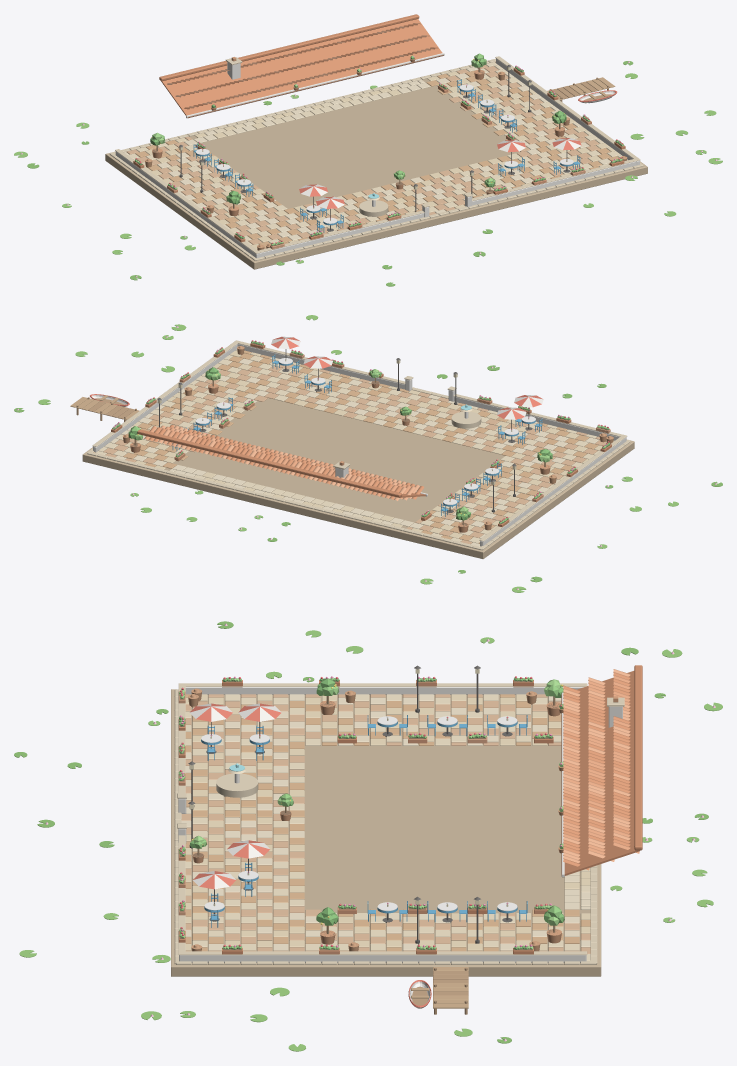
Rendered from restaurant.glb.
3 renders of one model, top to bottom at view 1: azimuth 30°, elevation 25°; view 2: azimuth 150°, elevation 25°; view 3: azimuth 270°, elevation 25°, orthographic. The views are drawn at different scales.
Parts seen in each view (by area): view 1: terrace_base, roof_deck, terrace_tiles_clay_tile_0, terrace_tiles_clay_tile_1, terrace_tiles_sandstone_0, terrace_tiles_sandstone_2, parapet, terrace_tiles_sandstone_1, terrace_coping, roof_details, terrace_decor, lily_pads (+10 smaller); view 2: terrace_base, terrace_tiles_clay_tile_0, terrace_tiles_clay_tile_1, terrace_tiles_sandstone_0, terrace_tiles_sandstone_2, terrace_tiles_sandstone_1, parapet, terrace_decor, terrace_coping, roof_tiles_terracotta_1, roof_details, lily_pads (+9 smaller); view 3: terrace_base, terrace_tiles_clay_tile_0, terrace_tiles_clay_tile_1, parapet, terrace_tiles_sandstone_0, terrace_tiles_sandstone_1, terrace_tiles_sandstone_2, terrace_decor, roof_deck, terrace_coping, roof_tiles_terracotta_1, roof_tiles_terracotta_0 (+10 smaller).
Boxes of the visible parts, box(x1,y1,x2,y2) form: terrace_base: box(105, 60, 647, 269); roof_deck: box(161, 19, 443, 118); terrace_tiles_clay_tile_0: box(127, 65, 599, 248); terrace_tiles_clay_tile_1: box(135, 62, 619, 247); terrace_tiles_sandstone_0: box(128, 62, 622, 245); terrace_tiles_sandstone_2: box(124, 67, 610, 240); parapet: box(115, 56, 640, 258); terrace_tiles_sandstone_1: box(145, 71, 627, 249); terrace_coping: box(109, 59, 643, 260); roof_details: box(159, 14, 444, 118); terrace_decor: box(145, 53, 627, 250); lily_pads: box(14, 61, 722, 286); terrace_base: box(82, 352, 634, 558); terrace_tiles_clay_tile_0: box(103, 364, 606, 543); terrace_tiles_clay_tile_1: box(93, 350, 598, 543); terrace_tiles_sandstone_0: box(95, 349, 600, 543); terrace_tiles_sandstone_2: box(110, 357, 598, 546); terrace_tiles_sandstone_1: box(125, 350, 614, 538); parapet: box(92, 340, 627, 546); terrace_decor: box(122, 346, 613, 532); terrace_coping: box(87, 387, 630, 550); roof_tiles_terracotta_1: box(149, 425, 424, 499); roof_details: box(137, 429, 427, 497); lily_pads: box(14, 315, 722, 592); terrace_base: box(171, 689, 601, 976); terrace_tiles_clay_tile_0: box(181, 694, 590, 953); terrace_tiles_clay_tile_1: box(185, 694, 590, 951); parapet: box(177, 683, 587, 962); terrace_tiles_sandstone_0: box(185, 694, 590, 960); terrace_tiles_sandstone_1: box(185, 694, 590, 950); terrace_tiles_sandstone_2: box(181, 694, 590, 950); terrace_decor: box(188, 665, 564, 951); roof_deck: box(561, 671, 640, 875); terrace_coping: box(174, 689, 597, 964); roof_tiles_terracotta_1: box(563, 672, 630, 870); roof_tiles_terracotta_0: box(563, 675, 639, 854).
Size of what is drawn, in the model's own units: 62.86 by 6.66 by 43.82.
